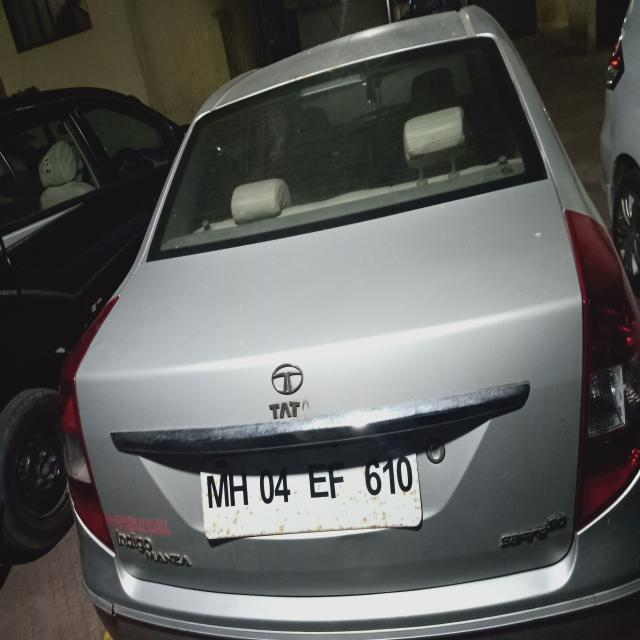Number-Plate: (201, 449, 429, 534)
